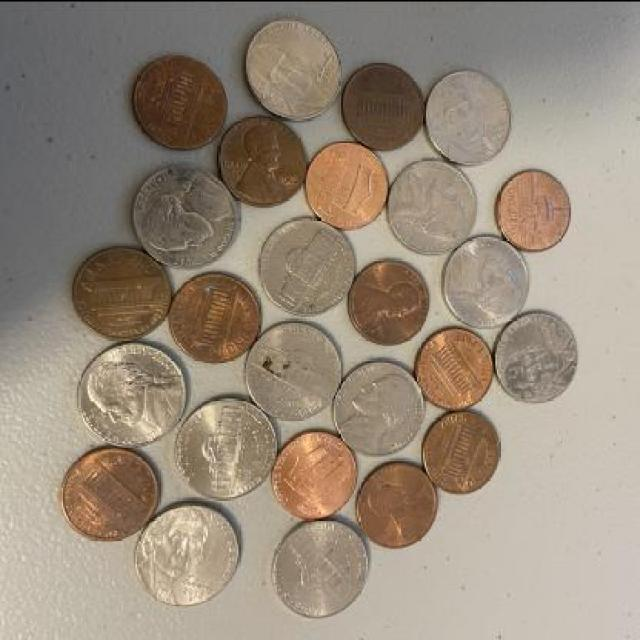Nickel: (128, 164, 245, 268), (80, 340, 191, 446), (137, 503, 243, 608), (245, 13, 346, 122), (172, 398, 280, 497), (242, 320, 344, 420), (270, 518, 372, 617), (256, 217, 356, 316), (384, 157, 478, 256), (332, 357, 425, 452), (424, 70, 514, 166), (443, 232, 532, 328), (497, 310, 583, 404)
Penny: (60, 440, 162, 540), (132, 54, 228, 148), (215, 115, 308, 211), (75, 248, 174, 337), (173, 269, 264, 362), (352, 458, 442, 548), (340, 58, 426, 151), (272, 431, 360, 517), (346, 256, 431, 344), (420, 406, 503, 496), (308, 140, 390, 229), (412, 324, 496, 410), (496, 166, 576, 252)
